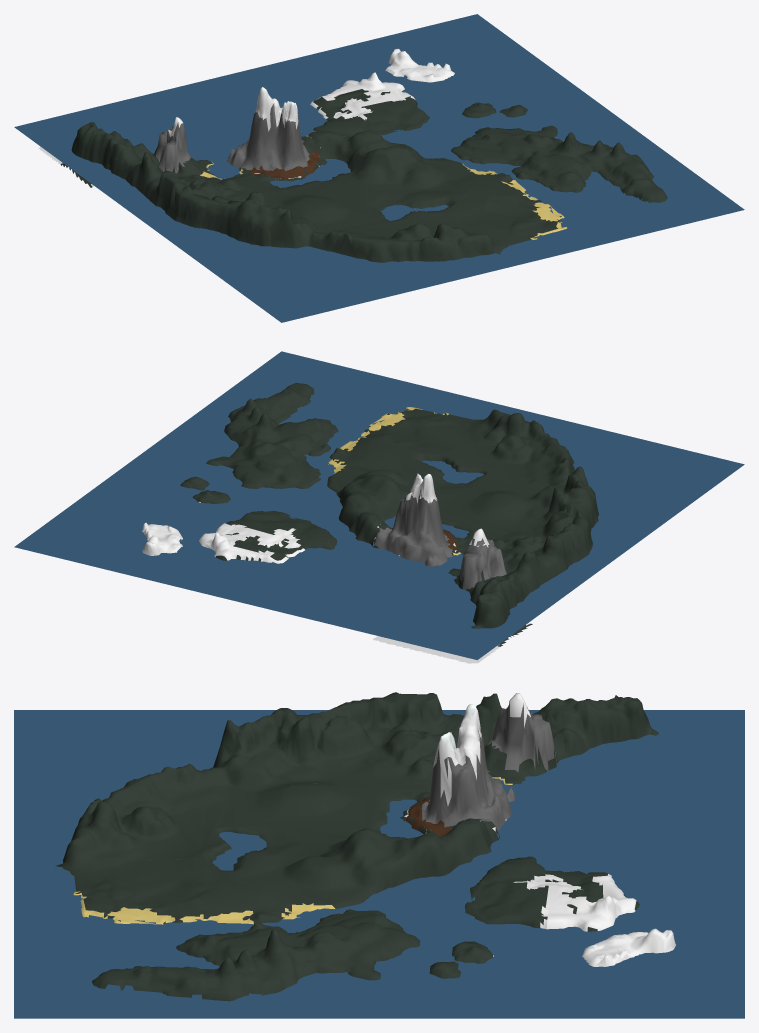
Rendered from mareFolorumNight.glb.
The picture shows the model from 3 angles, top to bottom: view 1: azimuth 30°, elevation 25°; view 2: azimuth 150°, elevation 25°; view 3: azimuth 270°, elevation 25°; orthographic projection. The views are drawn at different scales.
Parts seen in each view (by area): view 1: Patch 1 sea, Land; view 2: Patch 1 sea, Land; view 3: Patch 1 sea, Land.
Boxes of the visible parts, box(x1,y1,x2,y2) form: Patch 1 sea: box(14, 14, 744, 322); Land: box(38, 48, 667, 262); Patch 1 sea: box(14, 351, 744, 660); Land: box(142, 383, 598, 663); Patch 1 sea: box(14, 710, 744, 1018); Land: box(55, 692, 675, 1001).
Bounding box in the file's own units: 106 × 20.11 × 106.
